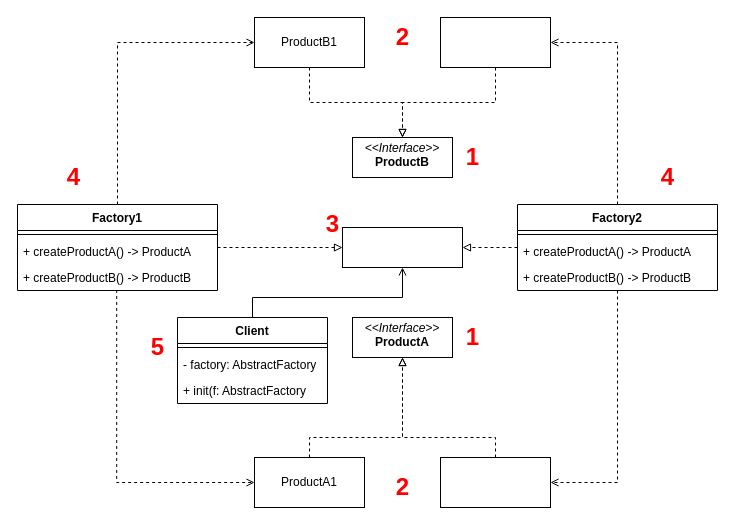
Image size: 735x525. Some labels were removed from this diagram. Here are the shapes that lost their labels. From the top down, the centre of each, then its label:
At point 495,42: "ProductB2".
At point 402,247: "<<Interface>> AbstractFactory".
At point 495,482: "ProductA2".
